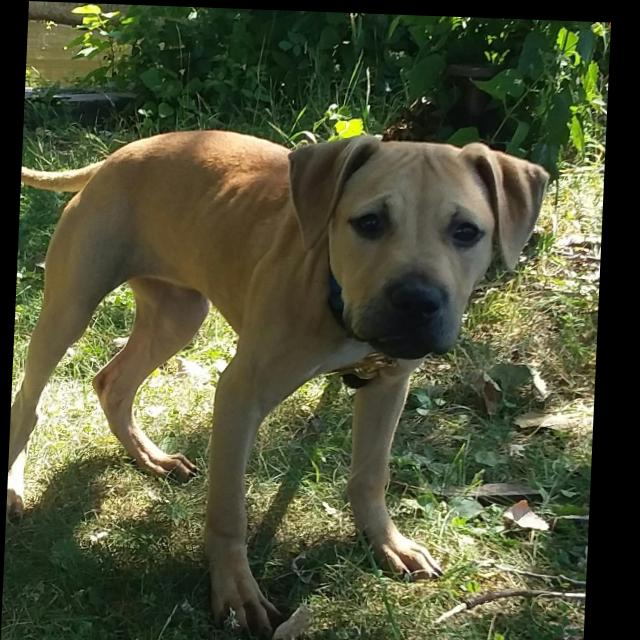am_pit_bull_terrier: (8, 118, 555, 640)
